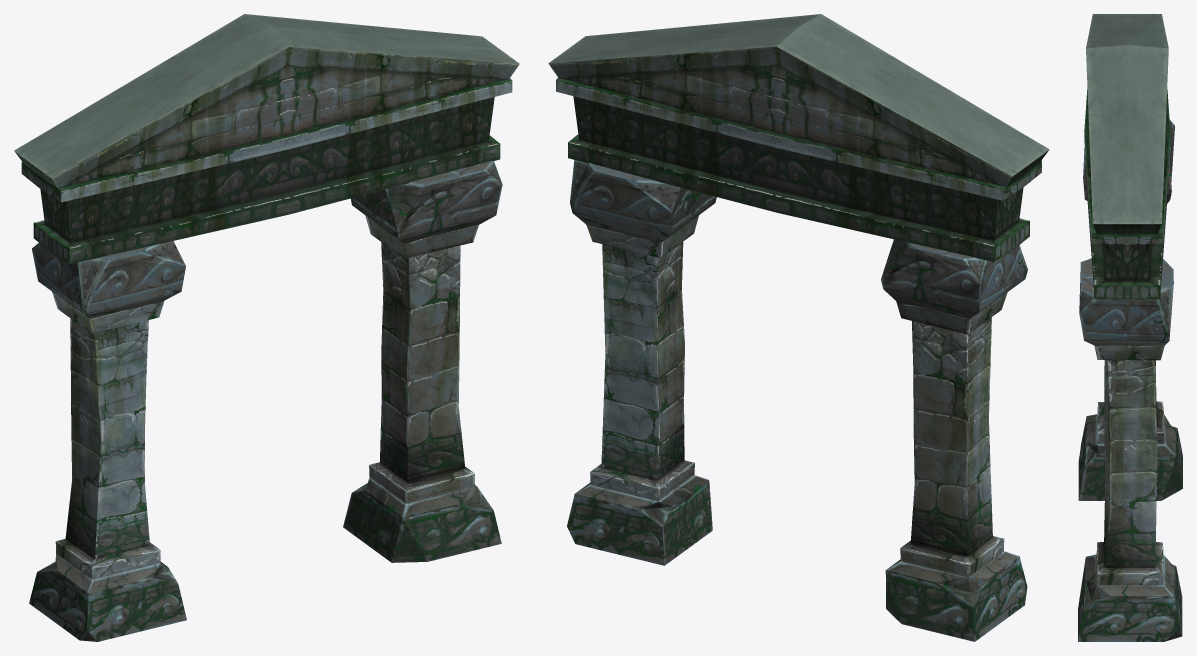
The model's file is stemple_pediment_02.fbx.
3 renders of one model, left to right at view 1: azimuth 30°, elevation 25°; view 2: azimuth 150°, elevation 25°; view 3: azimuth 270°, elevation 25°, orthographic. The views are drawn at different scales.
Visible parts, largest first — view 1: obj1.051; view 2: obj1.051; view 3: obj1.051.
Part boxes in pixels (left/top/right/bottom): obj1.051: left=14, top=14, right=519, bottom=641; obj1.051: left=548, top=14, right=1049, bottom=641; obj1.051: left=1078, top=14, right=1182, bottom=641.
Bounding box in the file's own units: 7.17 × 8.02 × 1.51.
